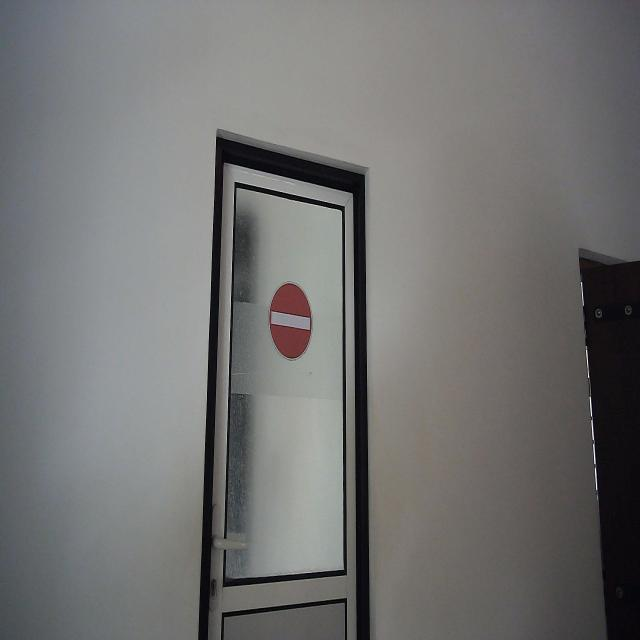no_entry: (268, 280, 314, 362)
